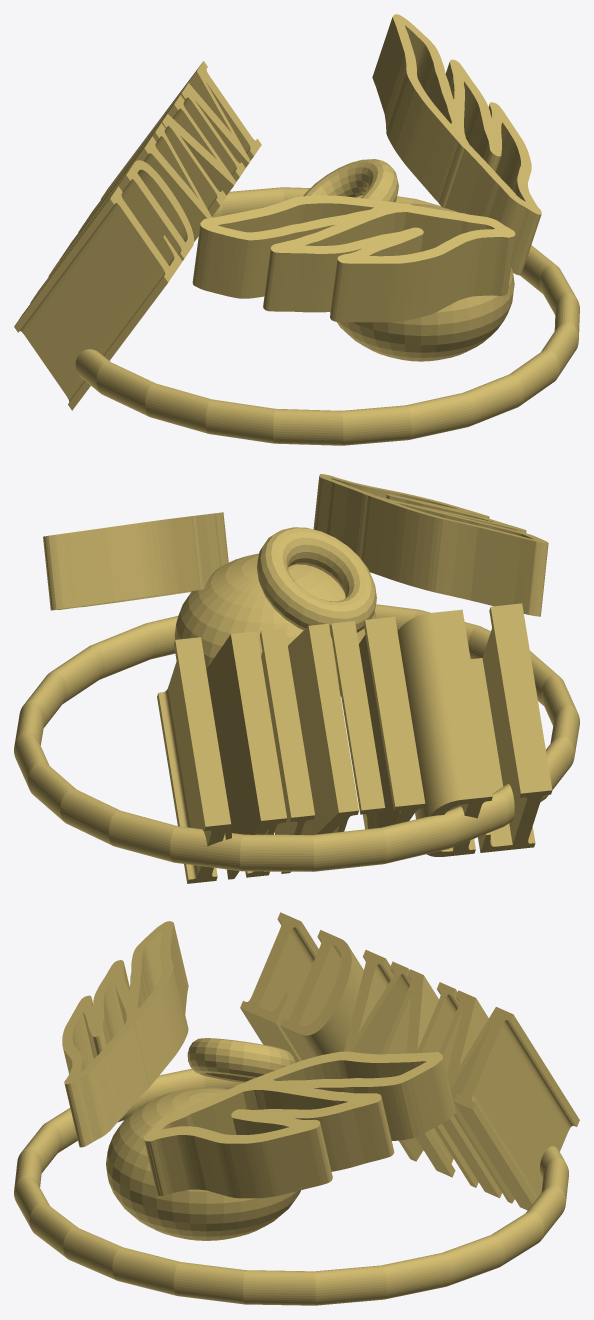
Rendered from LDNM.glb.
The picture shows the model from 3 angles, top to bottom: view 1: azimuth 30°, elevation 25°; view 2: azimuth 150°, elevation 25°; view 3: azimuth 270°, elevation 25°; orthographic projection. The views are drawn at different scales.
Parts seen in each view (by area): view 1: Mesh_Mesh_head_geo.001_lambert2SG.001; view 2: Mesh_Mesh_head_geo.001_lambert2SG.001; view 3: Mesh_Mesh_head_geo.001_lambert2SG.001.
Boxes of the visible parts, x1,y1,x2,y2 form: Mesh_Mesh_head_geo.001_lambert2SG.001: [14, 14, 579, 445]; Mesh_Mesh_head_geo.001_lambert2SG.001: [14, 474, 579, 883]; Mesh_Mesh_head_geo.001_lambert2SG.001: [14, 912, 579, 1305].
Bounding box in the file's own units: 78.47 × 37.76 × 78.
